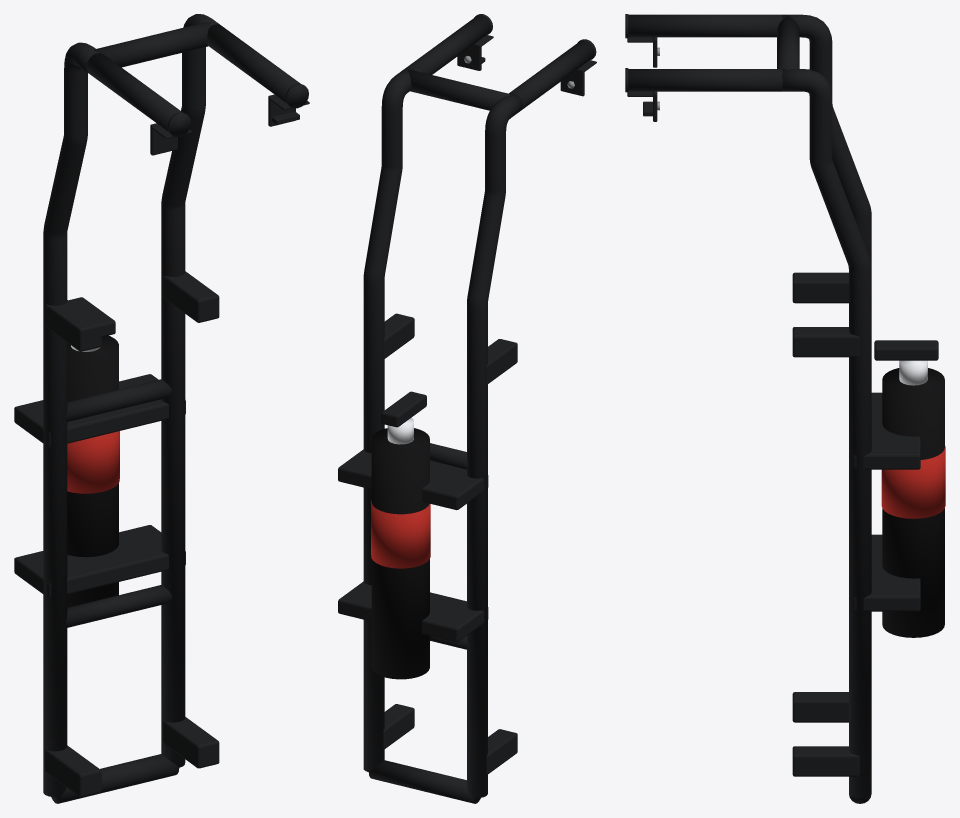
Rendered from ladder_tube.glb.
3 views of the same model, side by side, from view 1: azimuth 30°, elevation 25°; view 2: azimuth 150°, elevation 25°; view 3: azimuth 270°, elevation 25° (orthographic). The views are drawn at different scales.
Parts seen in each view (by area): view 1: rail-610, rail-430, extBody, clamp900, clamp1120, extBand, top, reach-610, reach-430, rung0.001, rung1.001, bottom (+6 smaller); view 2: rail-610, rail-430, extBody, extBand, clamp900, clamp1120, bottom, top, reach-610, reach-430, standoff-430650, standoff-4301300 (+7 smaller); view 3: rail-430, extBody, rail-610, reach-610, reach-430, extBand, clamp900, clamp1120, standoff-4301300, standoff-430650, standoff-6101300, standoff-610650 (+3 smaller).
Boxes of the visible parts, x1,y1,x2,y2 form: rail-610: [43, 42, 99, 797]; rail-430: [161, 14, 220, 767]; extBody: [67, 335, 118, 607]; clamp900: [14, 525, 185, 598]; clamp1120: [14, 374, 185, 447]; extBand: [67, 431, 119, 493]; top: [94, 22, 211, 67]; reach-610: [86, 53, 182, 131]; reach-430: [207, 24, 300, 102]; rung0.001: [66, 585, 172, 627]; rung1.001: [66, 379, 172, 422]; bottom: [51, 754, 179, 803]; rail-610: [467, 93, 522, 797]; rail-430: [363, 68, 414, 772]; extBody: [371, 428, 429, 679]; extBand: [371, 500, 430, 568]; clamp900: [338, 581, 488, 642]; clamp1120: [338, 449, 488, 510]; bottom: [369, 760, 480, 803]; top: [407, 70, 510, 110]; reach-610: [509, 40, 594, 110]; reach-430: [405, 15, 491, 74]; standoff-430650: [383, 704, 414, 749]; standoff-4301300: [383, 313, 414, 359]; rail-430: [782, 69, 871, 798]; extBody: [882, 368, 944, 637]; rail-610: [782, 14, 871, 265]; reach-610: [628, 14, 782, 37]; reach-430: [628, 69, 782, 91]; extBand: [881, 446, 945, 518]; clamp900: [853, 534, 920, 611]; clamp1120: [853, 392, 920, 469]; standoff-4301300: [792, 327, 859, 357]; standoff-430650: [792, 746, 859, 776]; standoff-6101300: [792, 272, 848, 303]; standoff-610650: [792, 692, 848, 722].
Size of the model in its own units: 0.22 by 1.14 by 0.45.
